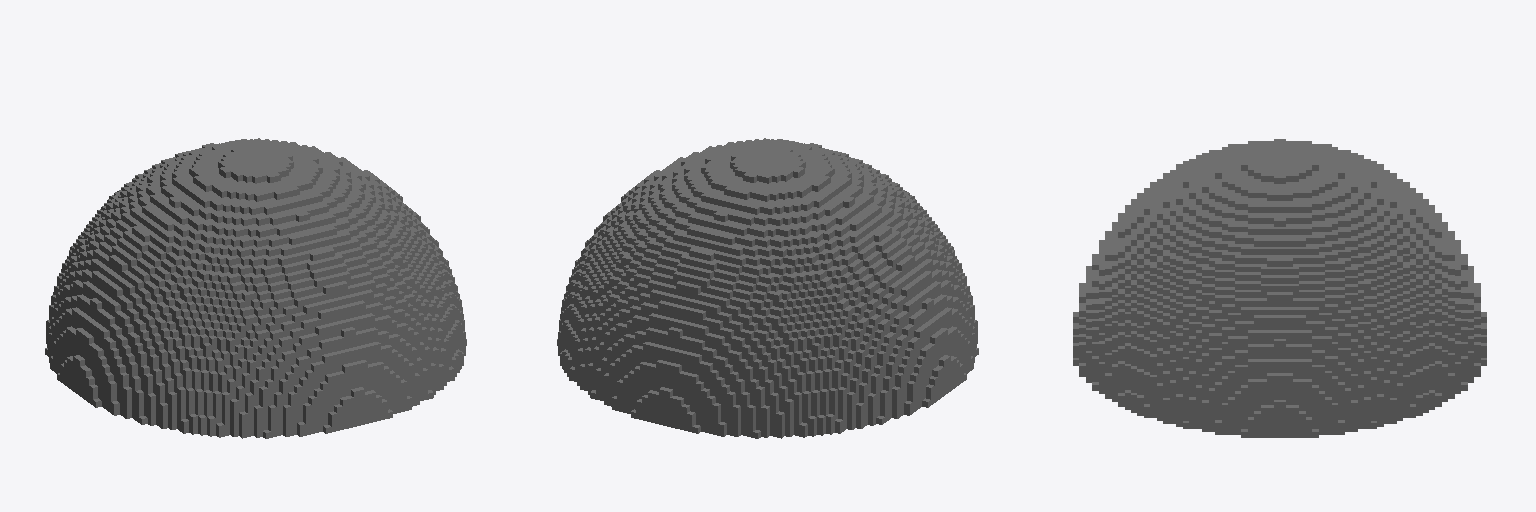
3 views of the same model, side by side, from view 1: azimuth 30°, elevation 25°; view 2: azimuth 150°, elevation 25°; view 3: azimuth 270°, elevation 25° (orthographic).
Visible parts, largest first — view 1: object 1; view 2: object 1; view 3: object 1.
Boxes of the visible parts, x1,y1,x2,y2 form: object 1: [45, 138, 466, 438]; object 1: [557, 138, 978, 438]; object 1: [1073, 139, 1486, 437].
Bounding box in the file's own units: 6.4 × 3.2 × 6.4.
1 materials, 1 textured.